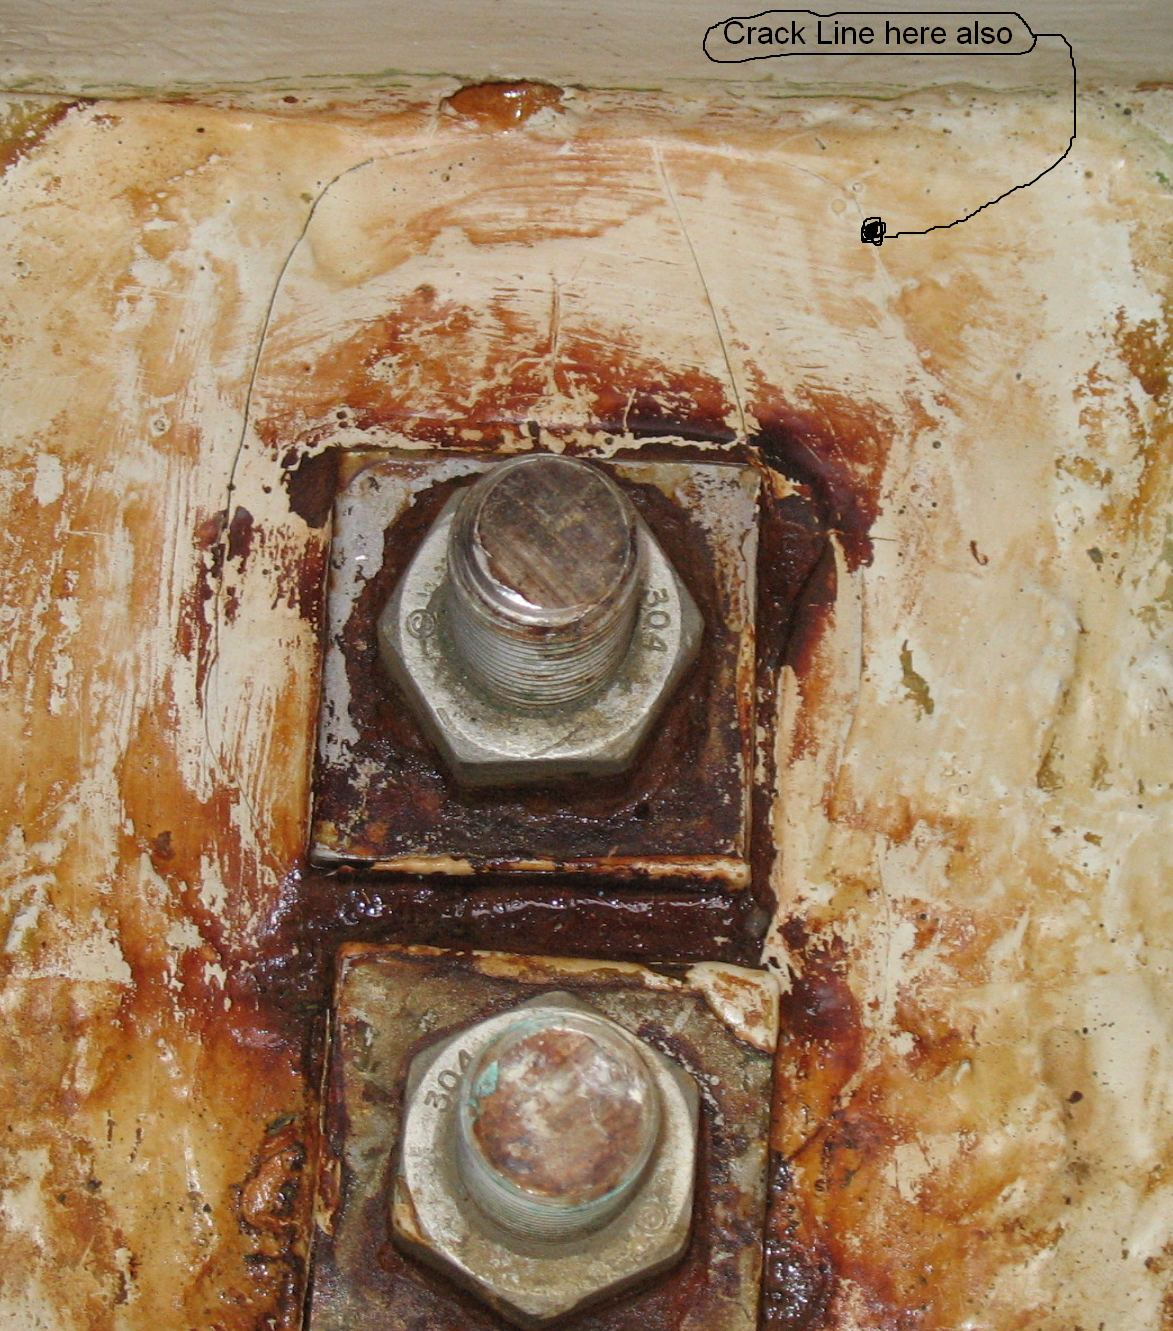bolt_b: (382, 986, 710, 1323), (371, 472, 709, 796)
